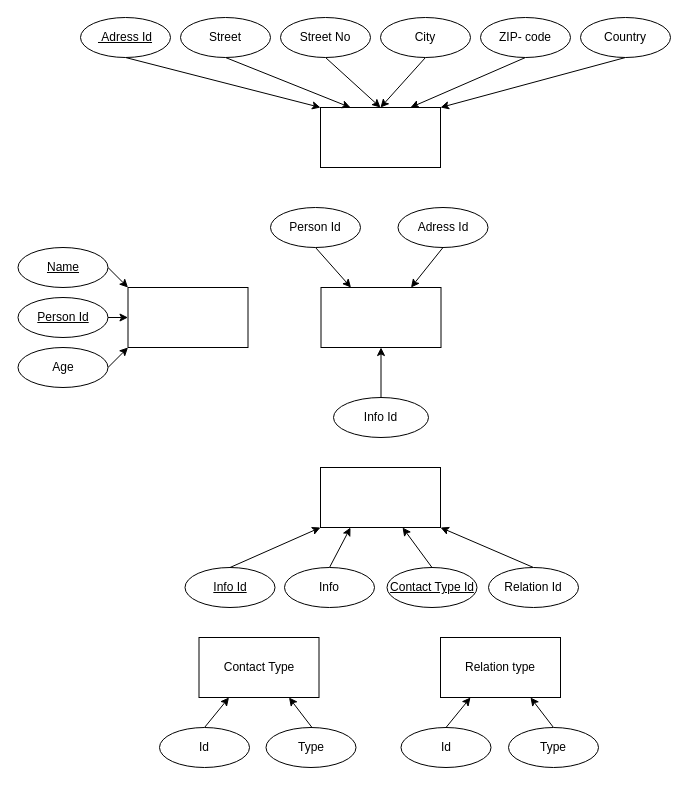
Some shapes in this 688 by 785 pixel diagram are drawn without their labels. Here are the shapes that lost their labels. From the top down, the centre of each, then its label:
pixel 380 137: Adress
pixel 187 317: Person
pixel 380 317: Phone_junc
pixel 380 497: Contact info
